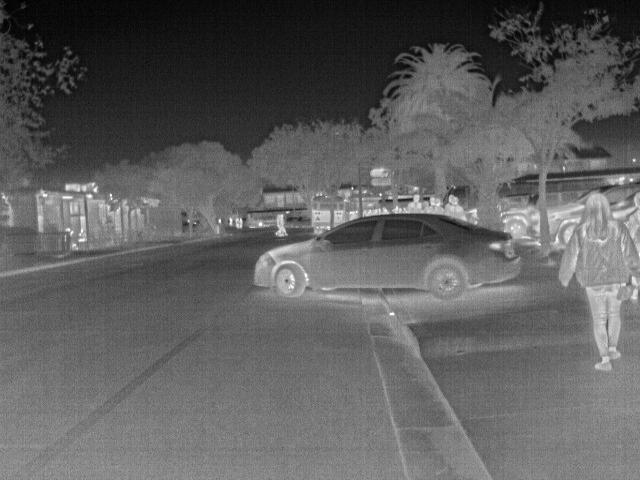car: (252, 211, 520, 297), (547, 180, 638, 246), (499, 204, 537, 236)
person: (557, 192, 638, 371), (442, 195, 470, 223), (404, 193, 423, 213), (275, 212, 289, 236), (75, 228, 89, 243), (237, 214, 244, 228), (227, 214, 234, 228)
